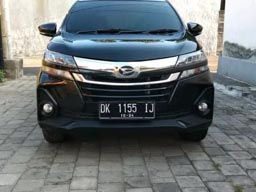plat: (98, 99, 157, 113)
